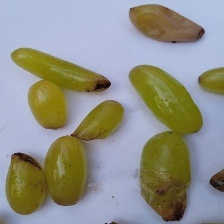grapes: (35, 30, 224, 167)
